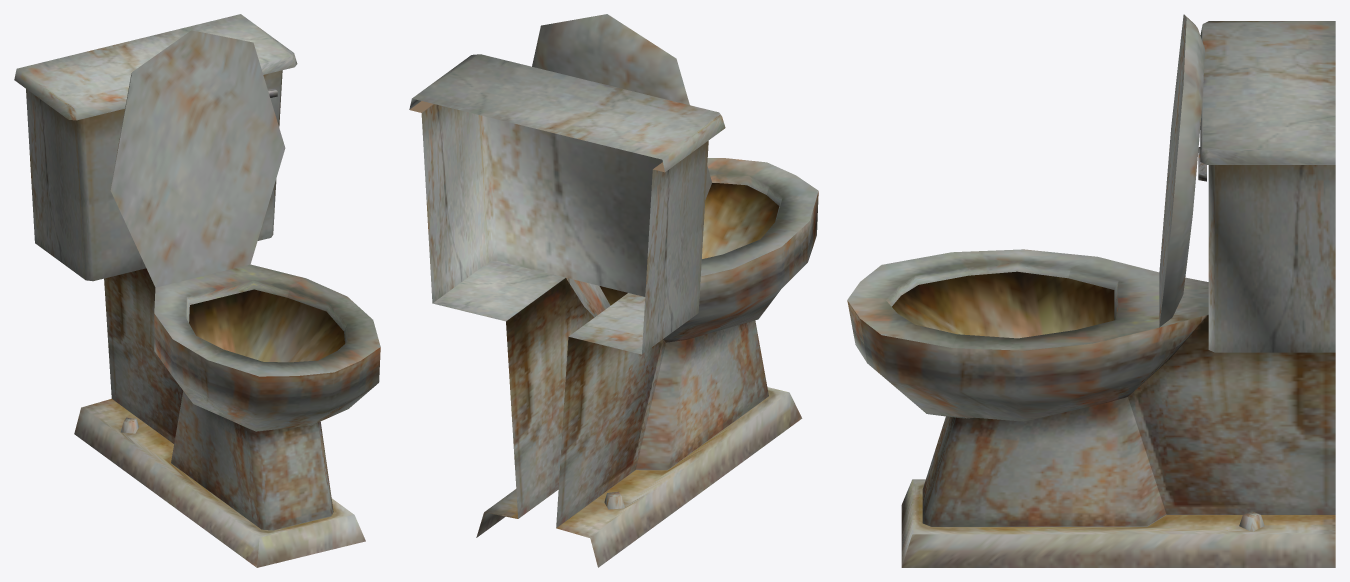
Rendered from dirtytoilet_var1.fbx.
The picture shows the model from 3 angles, left to right: view 1: azimuth 30°, elevation 25°; view 2: azimuth 150°, elevation 25°; view 3: azimuth 270°, elevation 25°; orthographic projection. The views are drawn at different scales.
Parts seen in each view (by area): view 1: mesh_0; view 2: mesh_0; view 3: mesh_0.
Part boxes in pixels (box(x1,y1,x2,y2)): mesh_0: box(14, 14, 380, 567); mesh_0: box(409, 14, 818, 567); mesh_0: box(847, 14, 1335, 567).
Bounding box in the file's own units: 58.04 × 106 × 90.37.
Materials: 1 (1 with a texture image).
